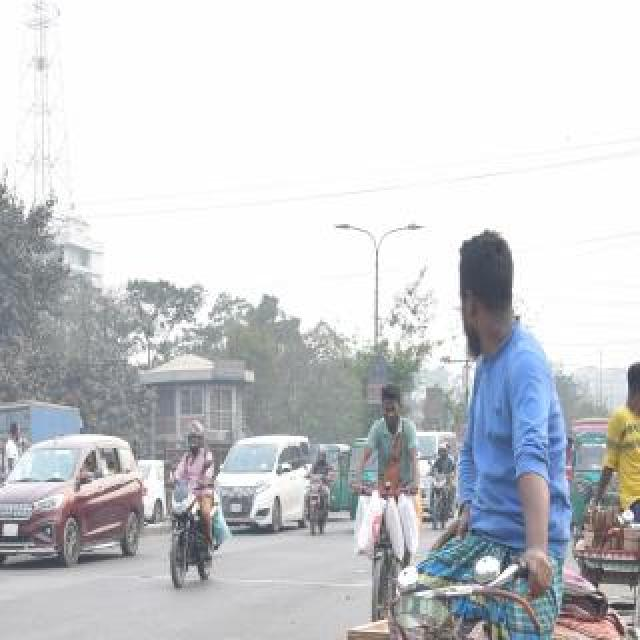car: (0, 412, 160, 584)
motorbike: (143, 409, 223, 593)
